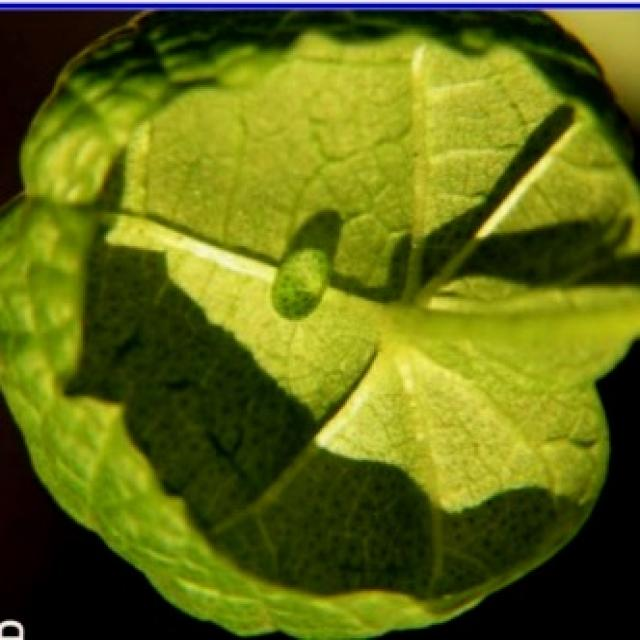Leaf Curl Virus: (59, 39, 589, 602)
